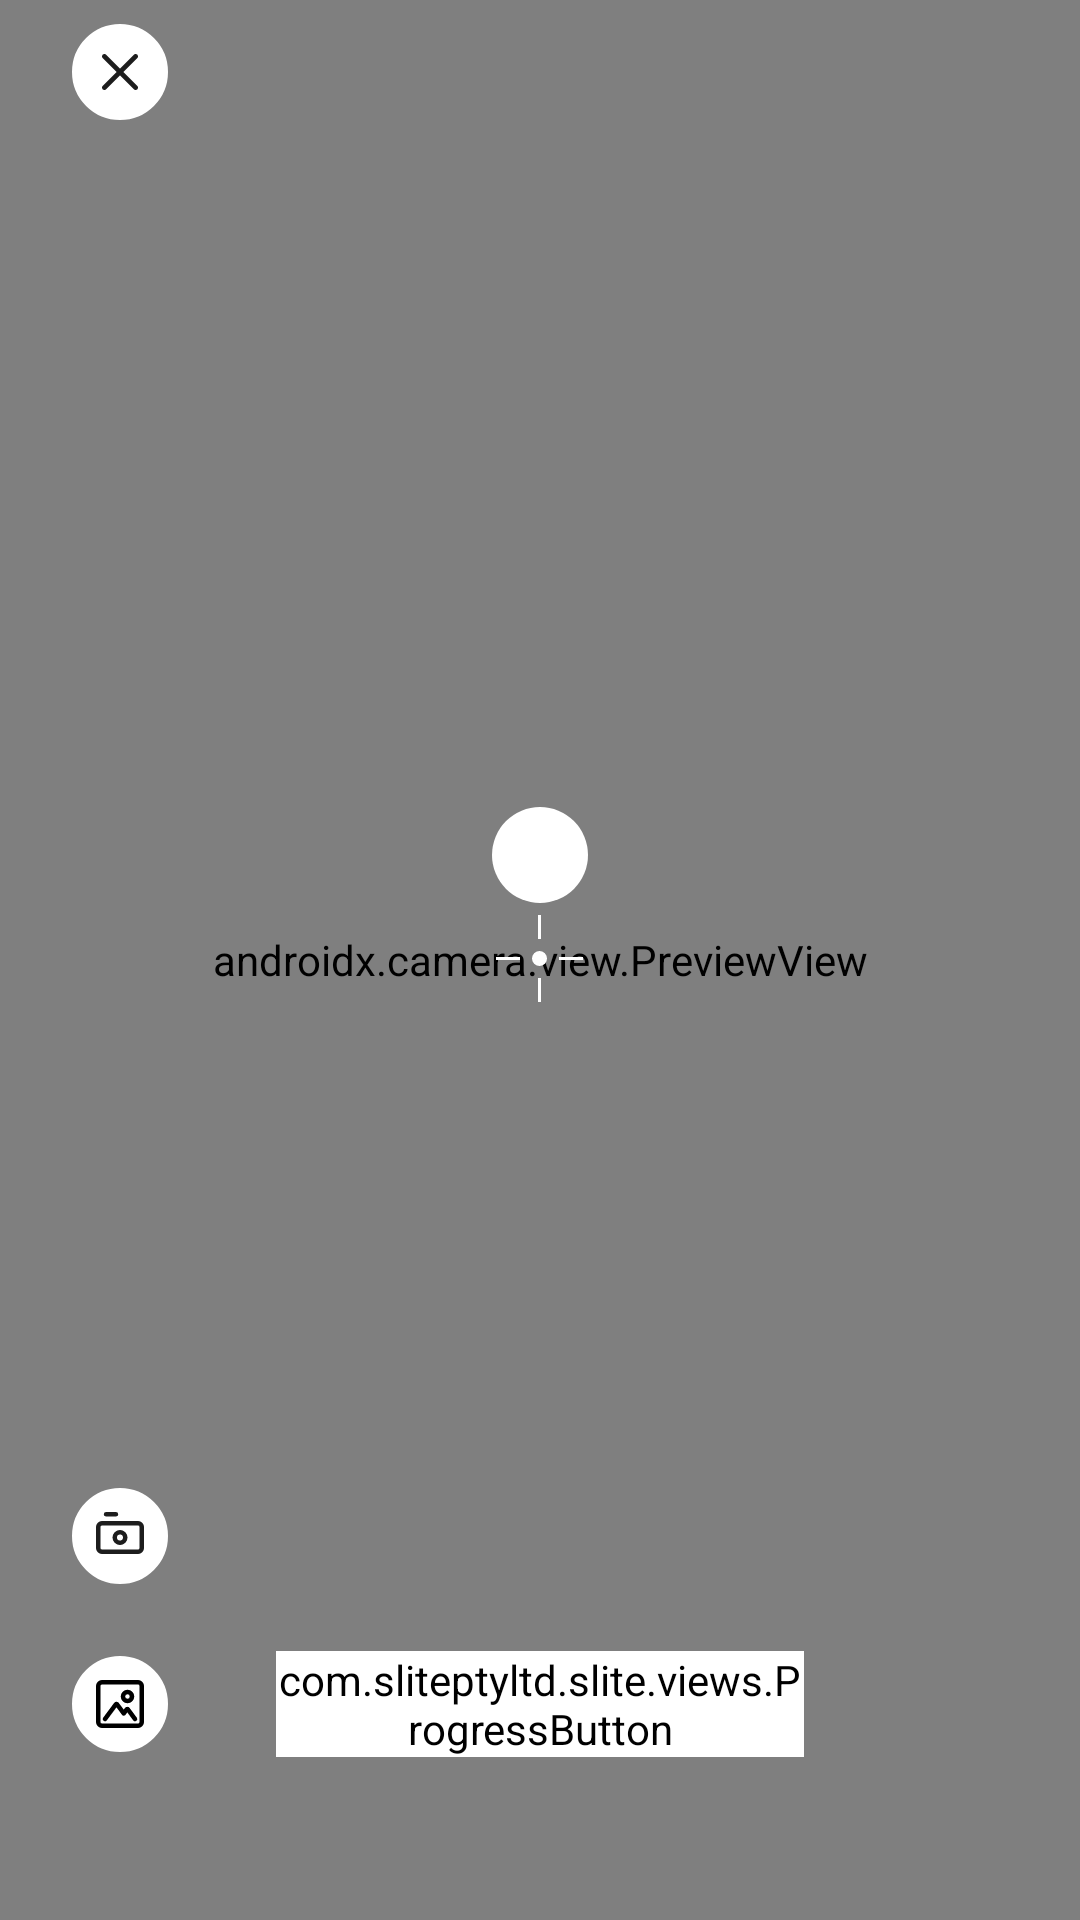

Screen size 1080 × 1920. Icon name, then its center in pixels as point (x, y):
close: point (120, 72)
gallery: point (120, 1704)
